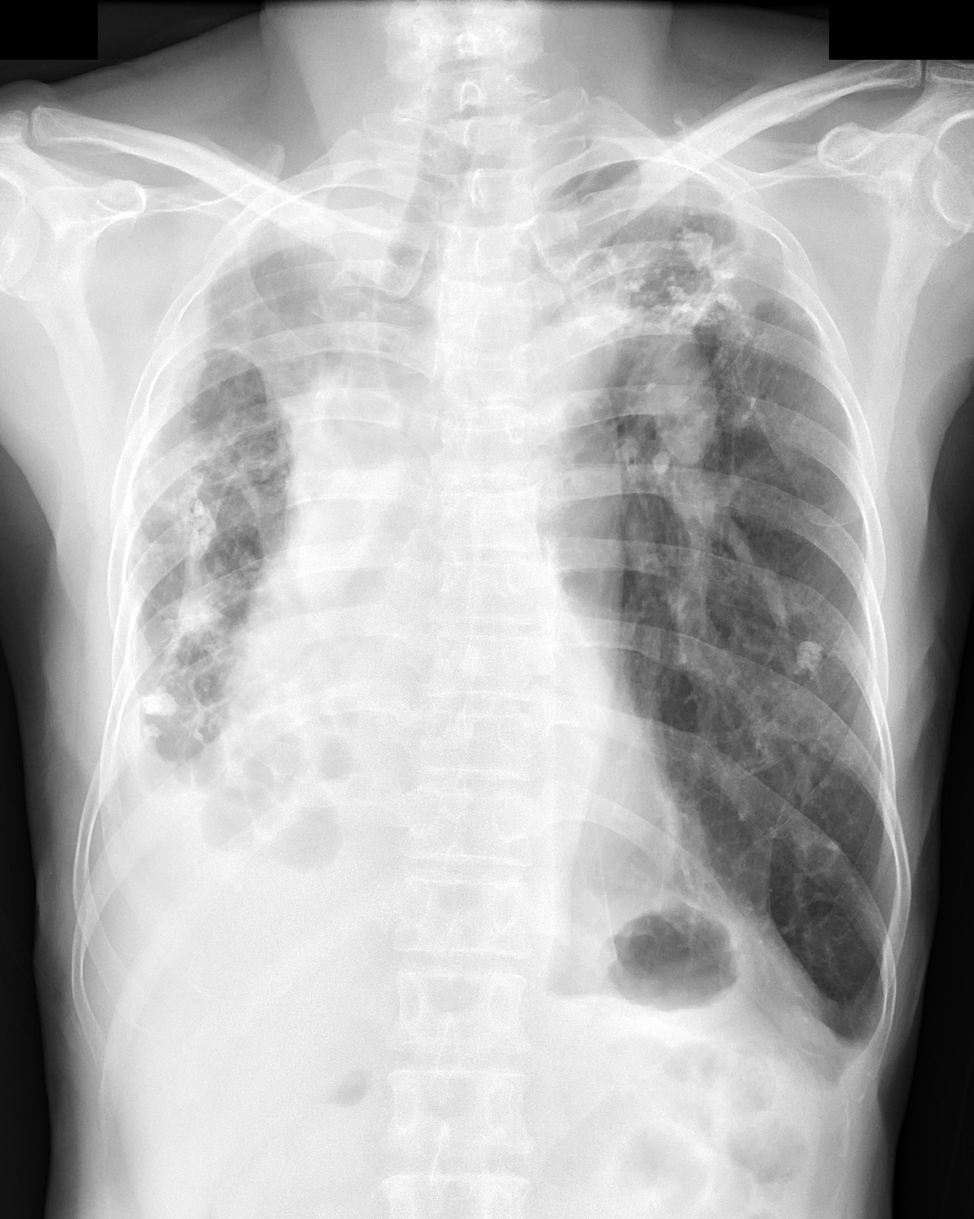Pleural thickening: (102, 278, 216, 769), (63, 685, 186, 909), (619, 128, 812, 270), (179, 149, 387, 249), (816, 998, 882, 1097)
Pulmonary fibrosis: (117, 177, 374, 689), (556, 198, 774, 504)
